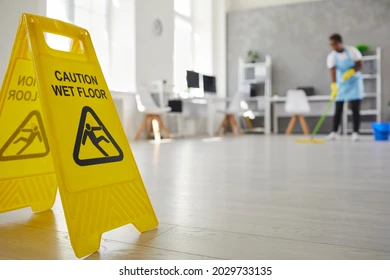wet caution sign: (0, 16, 154, 251)
